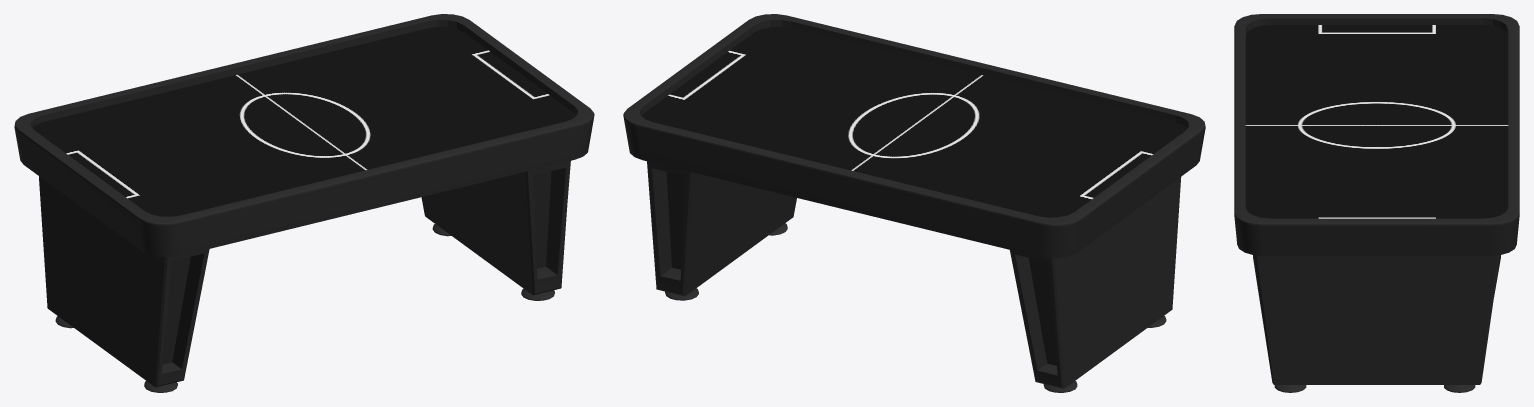
The model's file is Air_Hockey_Textured.fbx.
3 views of the same model, side by side, from view 1: azimuth 30°, elevation 25°; view 2: azimuth 150°, elevation 25°; view 3: azimuth 270°, elevation 25° (orthographic). The views are drawn at different scales.
Parts seen in each view (by area): view 1: Airhockey; view 2: Airhockey; view 3: Airhockey.
Boxes of the visible parts, left/top/right/bottom form: Airhockey: left=14, top=14, right=594, bottom=392; Airhockey: left=623, top=14, right=1205, bottom=392; Airhockey: left=1234, top=14, right=1519, bottom=392.
Bounding box in the file's own units: 213 × 84.74 × 122.
Materials: 1 (1 with a texture image).
